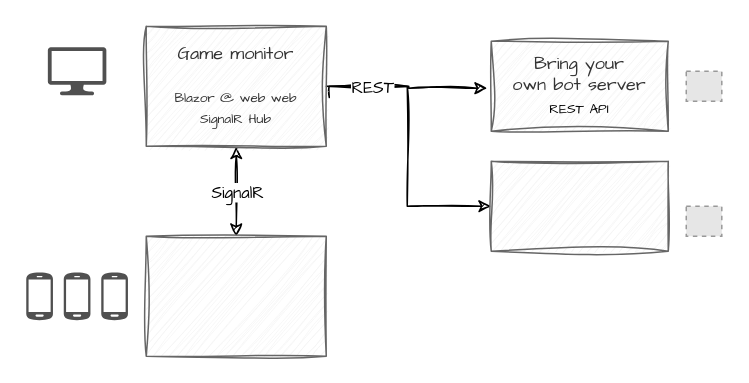
Image size: 749x383. Some labels were removed from this diagram. Grey dashed boxes stand in for pictures. The box of each missing label's shape, as (x1, y1, x2, y2) in pixels:
Example bot server REST API @ web app: (490, 160, 668, 251)
Game client Blazor @ web app Signal R Client: (145, 235, 326, 356)
